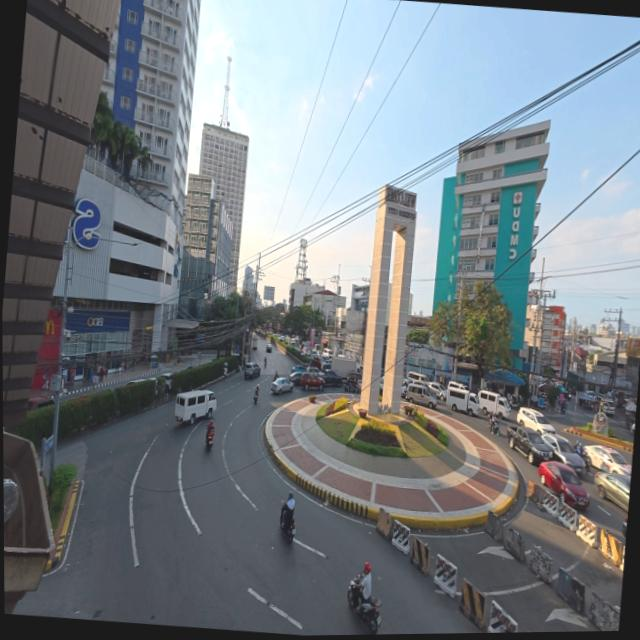car: (534, 457, 593, 513), (269, 374, 293, 395)
vans: (403, 381, 441, 409)
